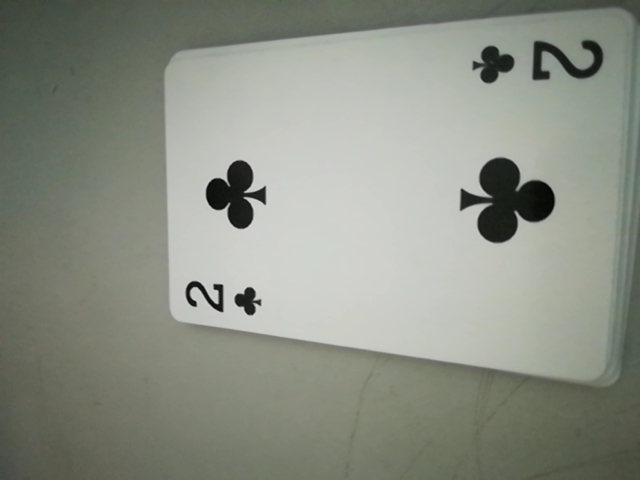mh 2: (470, 29, 604, 95), (177, 270, 269, 327)
